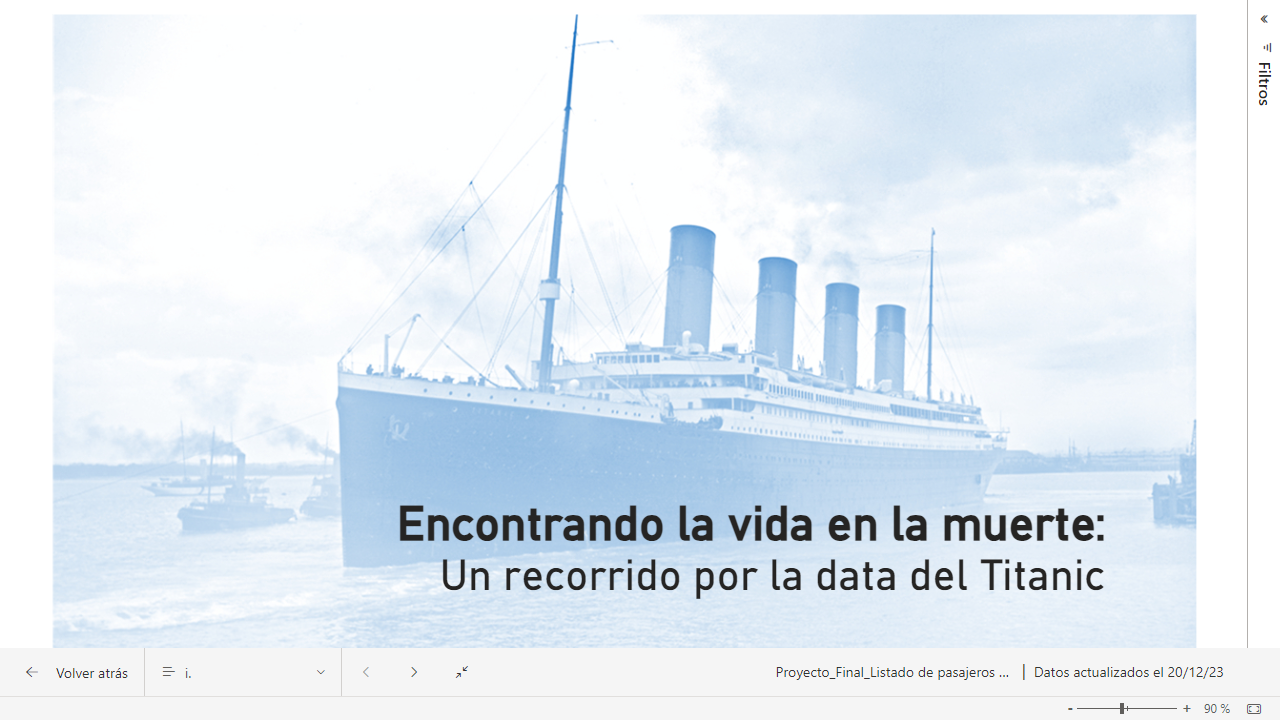

The page's visual inventory and layout, read from the dashboard file:
{"tool":"powerbi","page":{"name":"i.","canvas":[1280,720],"ordinal":0},"visuals":[{"type":"image","box":[0,0,1280.7,720],"z":0},{"type":"textbox","box":[330.1,534.8,849.5,144.8],"z":1000},{"type":"textbox","box":[27,29,415.1,133.2],"z":2000}]}

Visuals, with their boxes on the page's 1280x720 design canvas (x1, y1, x2, y2). These are canvas units, not pixel positions in the 1280x720 screenshot, which may show the page scaled, cropped or inside an application window:
image: [x1=0, y1=0, x2=1281, y2=720]
textbox: [x1=330, y1=535, x2=1180, y2=680]
textbox: [x1=27, y1=29, x2=442, y2=162]
